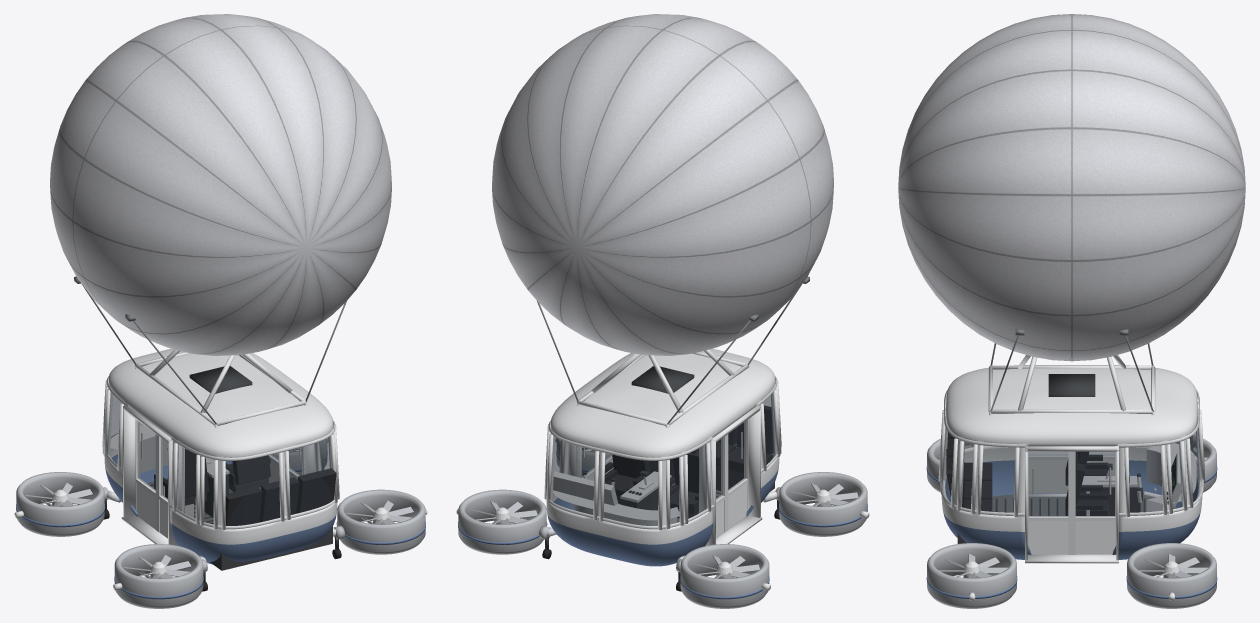
Rendered from sky_gondola.glb.
3 views of the same model, side by side, from view 1: azimuth 30°, elevation 25°; view 2: azimuth 150°, elevation 25°; view 3: azimuth 270°, elevation 25° (orthographic).
Parts seen in each view (by area): view 1: balloon, cabin, cabin_glass, trim, interior, duct_BL, duct_FL, duct_BR, rig, door_L1, door_L2, rotor_FL (+3 smaller); view 2: balloon, cabin, cabin_glass, trim, interior, duct_FL, duct_BL, duct_FR, rig, door_L2, door_L1, rotor_BL (+3 smaller); view 3: balloon, cabin, trim, interior, cabin_glass, door_R1, door_R2, duct_FR, duct_BR, rig, door_L2, rotor_BR (+3 smaller).
Part boxes in pixels (x1,y1,x2,y2): balloon: [50, 14, 391, 355]; cabin: [104, 348, 337, 564]; cabin_glass: [107, 392, 332, 525]; trim: [102, 376, 339, 545]; interior: [110, 425, 336, 570]; duct_BL: [113, 544, 203, 608]; duct_FL: [14, 472, 105, 536]; duct_BR: [336, 489, 427, 554]; rig: [74, 276, 346, 427]; door_L1: [135, 419, 157, 530]; door_L2: [157, 435, 184, 537]; rotor_FL: [25, 483, 92, 506]; balloon: [492, 14, 833, 355]; cabin: [546, 348, 779, 566]; cabin_glass: [550, 392, 776, 525]; trim: [544, 376, 781, 545]; interior: [553, 405, 774, 525]; duct_FL: [680, 544, 770, 608]; duct_BL: [778, 472, 869, 536]; duct_FR: [456, 489, 547, 554]; rig: [537, 276, 809, 427]; door_L2: [726, 419, 748, 530]; door_L1: [699, 435, 726, 537]; rotor_BL: [791, 483, 858, 506]; balloon: [898, 14, 1245, 361]; cabin: [941, 365, 1202, 559]; trim: [938, 389, 1205, 563]; interior: [946, 432, 1196, 543]; cabin_glass: [942, 408, 1201, 512]; door_R1: [1072, 451, 1116, 554]; door_R2: [1027, 451, 1071, 554]; duct_FR: [1126, 543, 1217, 608]; duct_BR: [926, 543, 1017, 608]; rig: [988, 329, 1155, 415]; door_L2: [1028, 452, 1068, 492]; rotor_BR: [939, 554, 1007, 578].
Size of the model in its own units: 5.04 by 7.87 by 4.8.
Materials: 15 (2 with a texture image).
